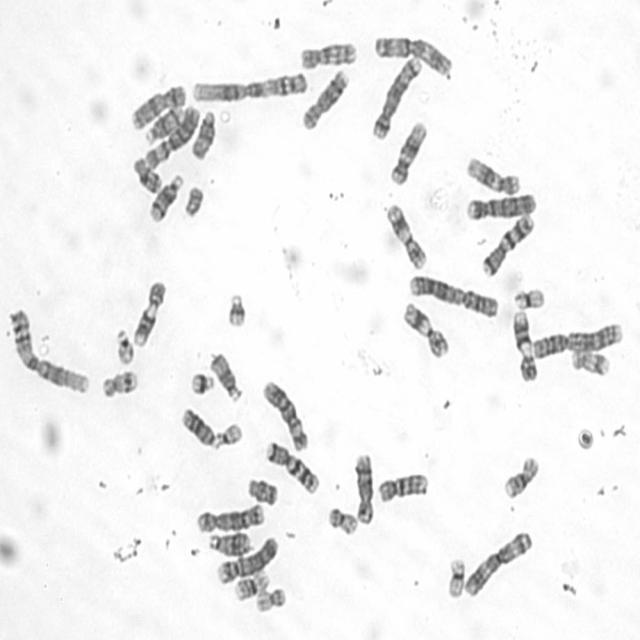A1: (6, 305, 92, 396), (188, 67, 308, 104)
A2: (406, 270, 500, 319), (529, 317, 623, 359)
A3: (461, 527, 536, 599), (371, 33, 453, 78)
B4: (213, 532, 280, 586), (462, 189, 538, 221)
B5: (369, 51, 422, 140), (194, 500, 266, 533)
C10: (298, 39, 358, 71), (375, 470, 429, 503)
C11: (384, 200, 428, 272), (400, 299, 450, 361)
C12: (388, 118, 429, 187), (463, 153, 522, 196)
C6: (142, 101, 201, 170), (261, 377, 309, 452)
C7: (478, 210, 537, 278), (264, 438, 320, 495)
C8: (299, 66, 351, 131), (352, 449, 374, 525)
C9: (130, 277, 166, 348), (509, 307, 538, 383)
D13: (180, 404, 219, 449), (206, 528, 252, 556)
D14: (146, 170, 184, 223), (142, 103, 184, 146)
D15: (207, 348, 243, 404), (188, 107, 218, 161)
E16: (501, 452, 541, 500), (231, 567, 271, 602)
E17: (569, 347, 612, 378), (100, 366, 138, 400)
E18: (130, 152, 163, 195), (244, 473, 278, 507)
F19: (444, 554, 467, 600), (512, 284, 546, 310)
F20: (253, 583, 288, 615), (326, 505, 358, 536)
G21: (223, 289, 249, 329), (187, 368, 215, 396)
G22: (214, 418, 244, 449), (114, 326, 136, 366)
X: (128, 80, 187, 131)
Y: (181, 182, 205, 220)
